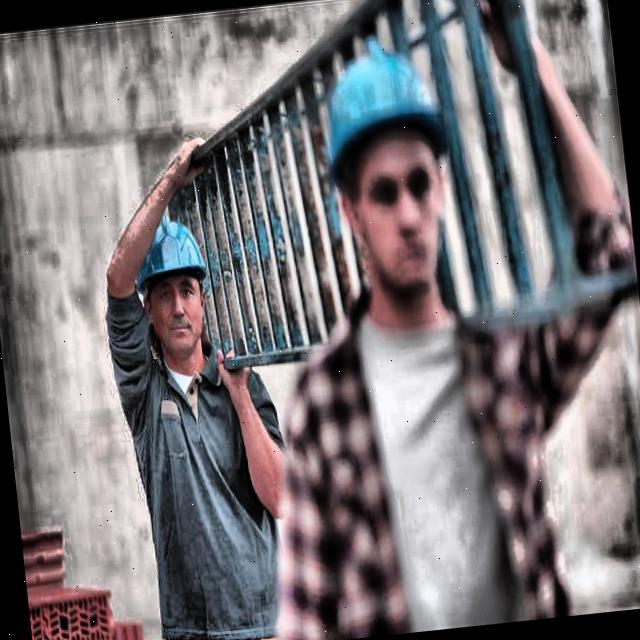helmet: (299, 23, 492, 331), (110, 191, 230, 387)
